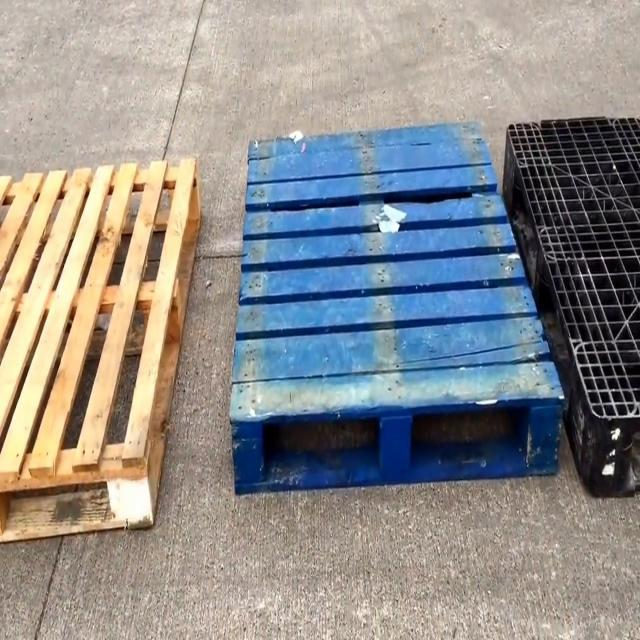Palette: (222, 113, 568, 502), (0, 151, 203, 558), (504, 99, 640, 512)
